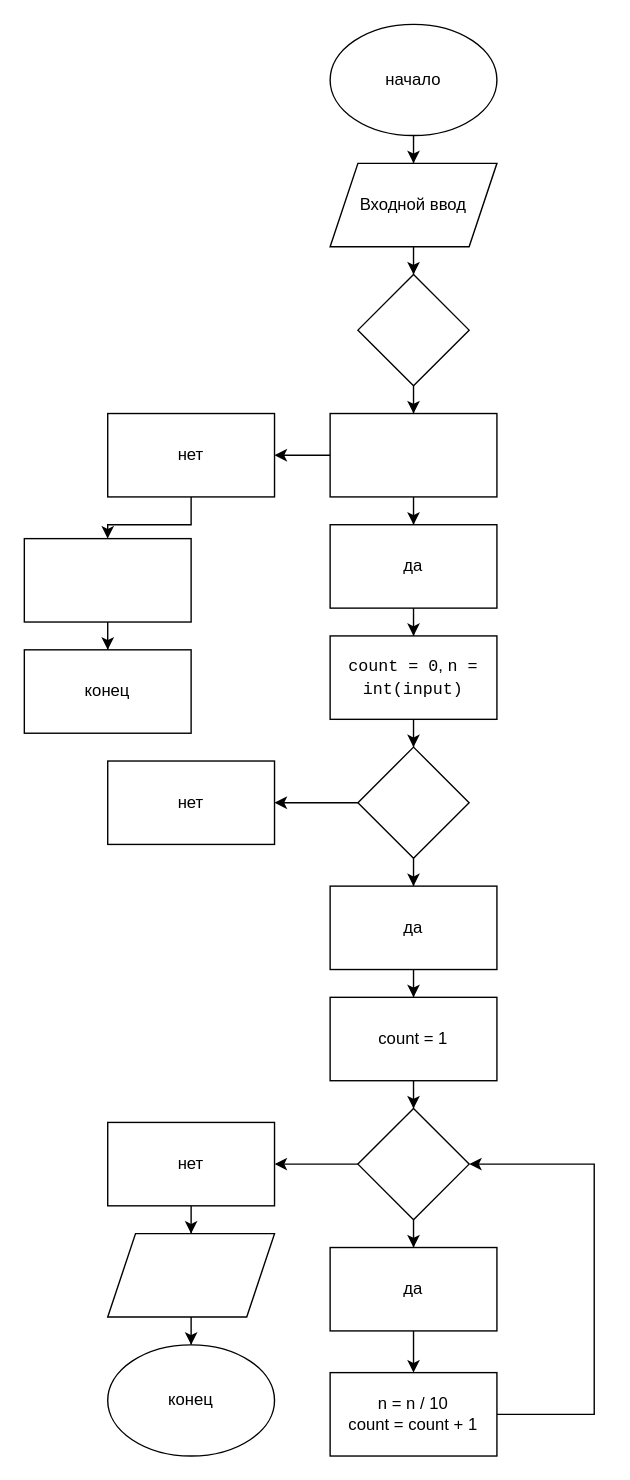
This 630x1480 diagram has some shape labels left out. The shapes that lost their labels are listed below. From the top down, each one's centre as x and y in pixels, then its label:
point 413,329: Проверка ввода
point 413,454: Введено целое число И n >= 0?
point 107,579: вывод ошибки
point 413,802: n == 0?
point 413,1163: n > 0?
point 190,1274: Вывод count
